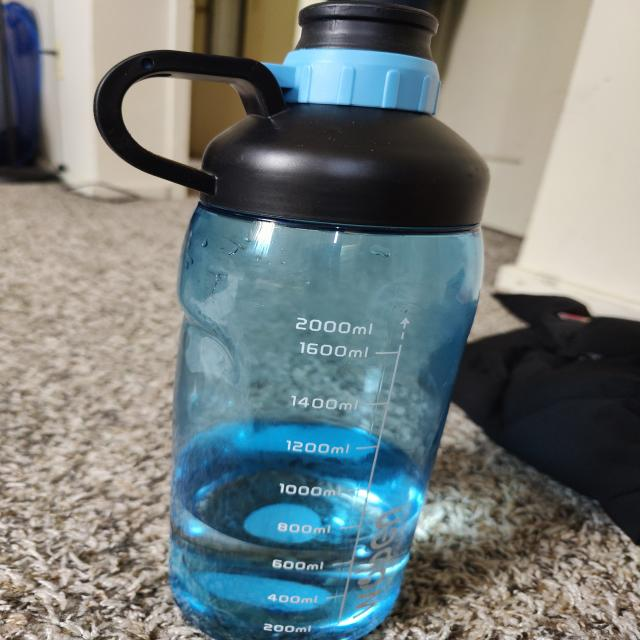bottle: (120, 5, 472, 626)
